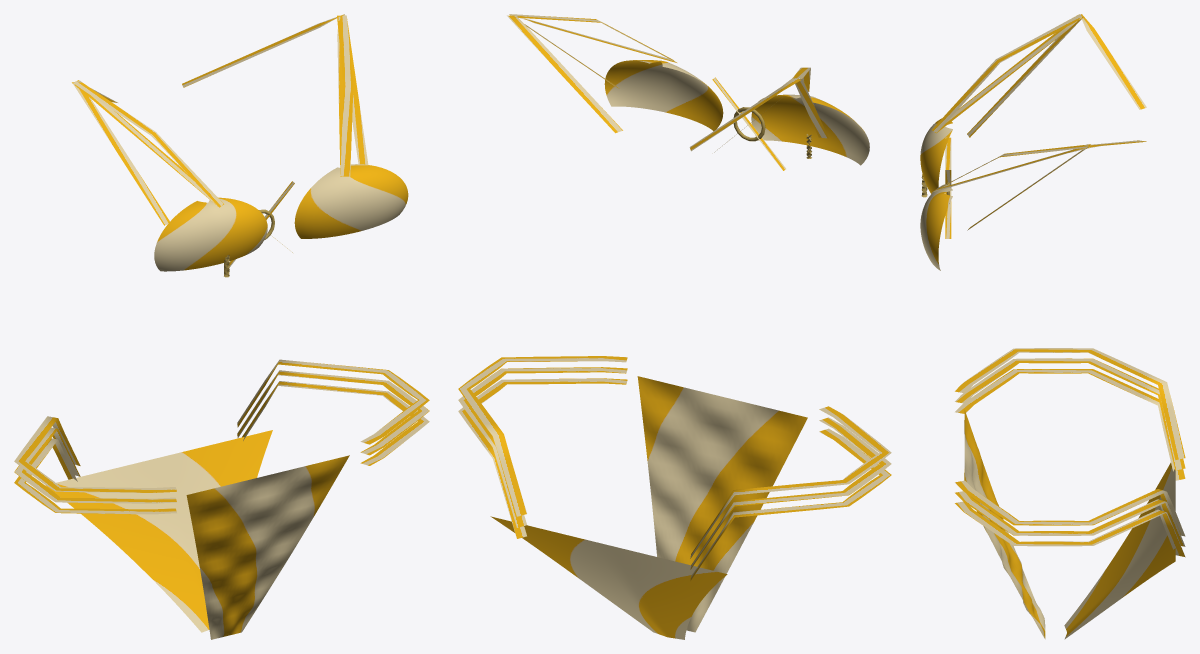
The model's file is bikini_ecacefc1.obj.
3 views of the same model, side by side, from view 1: azimuth 30°, elevation 25°; view 2: azimuth 150°, elevation 25°; view 3: azimuth 270°, elevation 25° (orthographic). The views are drawn at different scales.
Visible parts, largest first — view 1: bottom_front_ruched, bottom_back_classic, cup_right_cone, cup_left_cone, bottom_strap_left_2, bottom_strap_right_2, bottom_strap_right_1, bottom_strap_right_0, bottom_strap_left_0, strap_right_web_a, bottom_strap_left_1, strap_right_web_c (+4 smaller); view 2: bottom_front_ruched, bottom_back_classic, cup_right_cone, cup_left_cone, bottom_strap_right_2, bottom_strap_left_2, bottom_strap_left_1, bottom_strap_left_0, bottom_strap_right_1, bottom_strap_right_0, strap_right_web_c, strap_left_web_c; view 3: bottom_back_classic, bottom_front_ruched, bottom_strap_left_2, bottom_strap_right_0, bottom_strap_left_1, strap_left_web_c, bottom_strap_right_2, bottom_strap_left_0, bottom_strap_right_1, cup_right_cone, cup_left_cone, strap_left_web_a (+4 smaller).
Part boxes in pixels (box(x1,y1,x2,y2)): bottom_front_ruched: box(186, 455, 349, 639); bottom_back_classic: box(45, 430, 272, 632); cup_right_cone: box(294, 164, 408, 238); cup_left_cone: box(154, 197, 267, 271); bottom_strap_left_2: box(14, 416, 176, 492); bottom_strap_right_2: box(237, 359, 429, 444); bottom_strap_right_1: box(237, 370, 429, 455); bottom_strap_right_0: box(242, 381, 429, 465); bottom_strap_left_0: box(14, 438, 176, 514); strap_right_web_a: box(337, 15, 353, 176); bottom_strap_left_1: box(14, 427, 176, 503); strap_right_web_c: box(182, 14, 344, 176); bottom_front_ruched: box(637, 376, 807, 632); bottom_back_classic: box(490, 516, 727, 639); cup_right_cone: box(604, 60, 723, 131); cup_left_cone: box(751, 94, 869, 165); bottom_strap_right_2: box(458, 356, 627, 516); bottom_strap_left_2: box(690, 406, 891, 558); bottom_strap_left_1: box(690, 417, 891, 569); bottom_strap_left_0: box(690, 428, 891, 580); bottom_strap_right_1: box(458, 367, 627, 527); bottom_strap_right_0: box(458, 378, 627, 538); strap_right_web_c: box(507, 15, 676, 133); strap_left_web_c: box(689, 77, 808, 151); bottom_back_classic: box(1064, 462, 1175, 639); bottom_front_ruched: box(964, 410, 1045, 639); bottom_strap_left_2: box(955, 348, 1185, 459); bottom_strap_right_0: box(955, 501, 1185, 557); bottom_strap_left_1: box(955, 358, 1185, 470); strap_left_web_c: box(935, 14, 1146, 133); bottom_strap_right_2: box(955, 480, 1185, 536); bottom_strap_left_0: box(955, 369, 1185, 480); bottom_strap_right_1: box(955, 491, 1185, 546); cup_right_cone: box(920, 184, 952, 270); cup_left_cone: box(920, 118, 952, 193); strap_left_web_a: box(932, 14, 1083, 132).
Size of the model in its own units: 0.4414 by 0.643 by 0.2787.
Materials: 2 (1 with a texture image).
